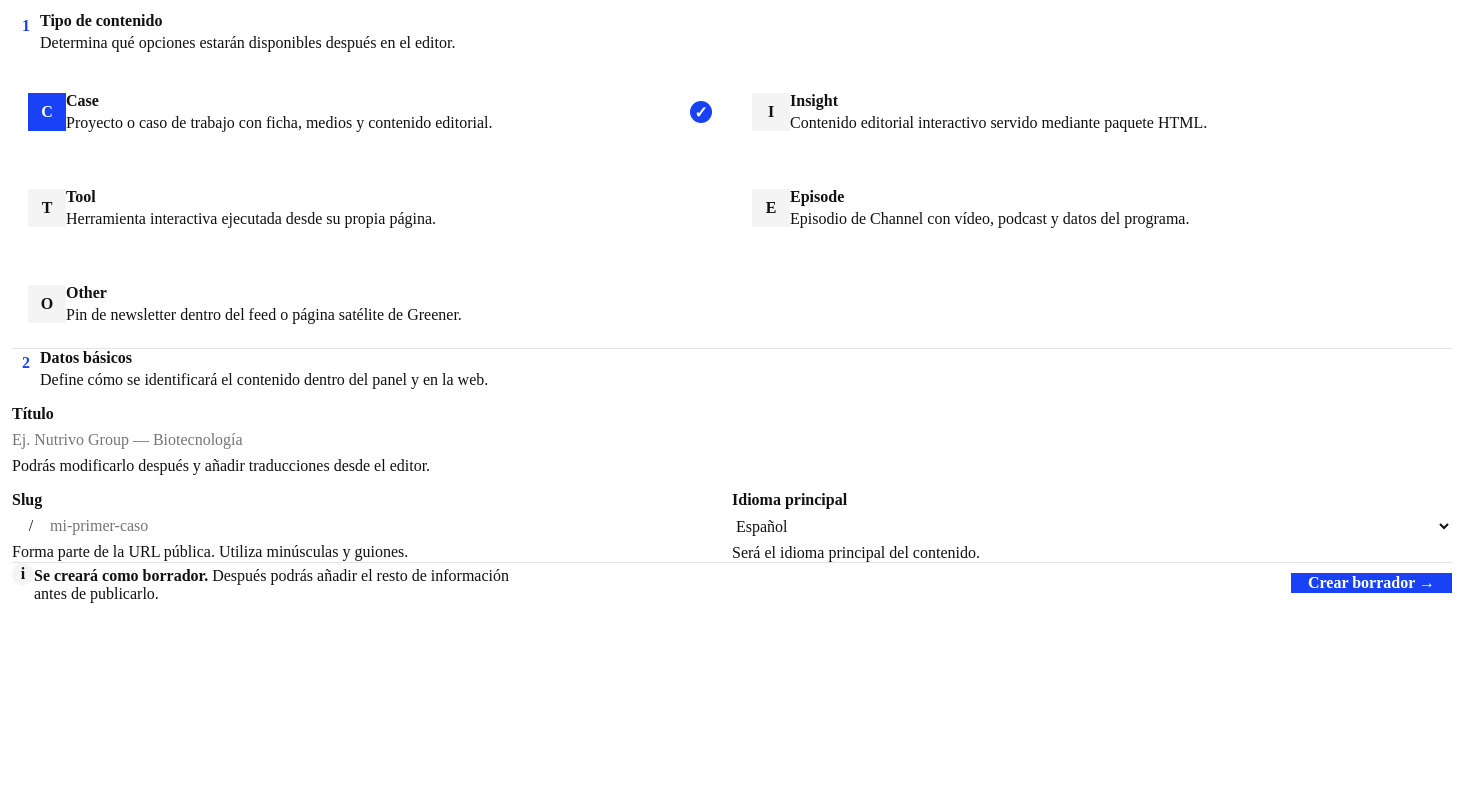
Test: alta de contenido — Other (plan de other, §7.1) › al volver a otro tipo desaparece la sección
This screenshot has width=1464, height=799.
Click the radio button that starts with "Other": click(370, 304) [12,260,728,348]
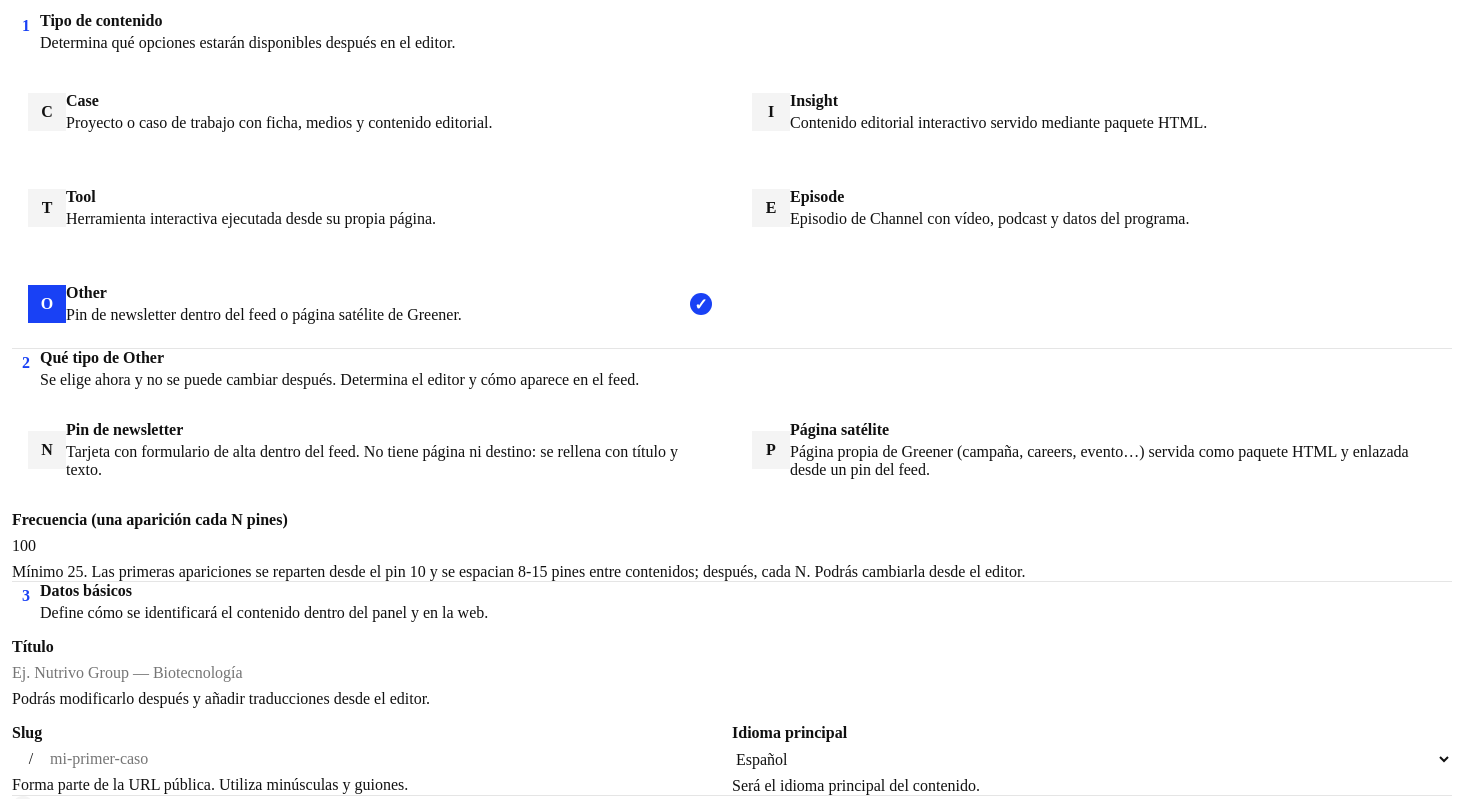
Click the radio button that starts with "Case": click(370, 112) [12,68,728,156]
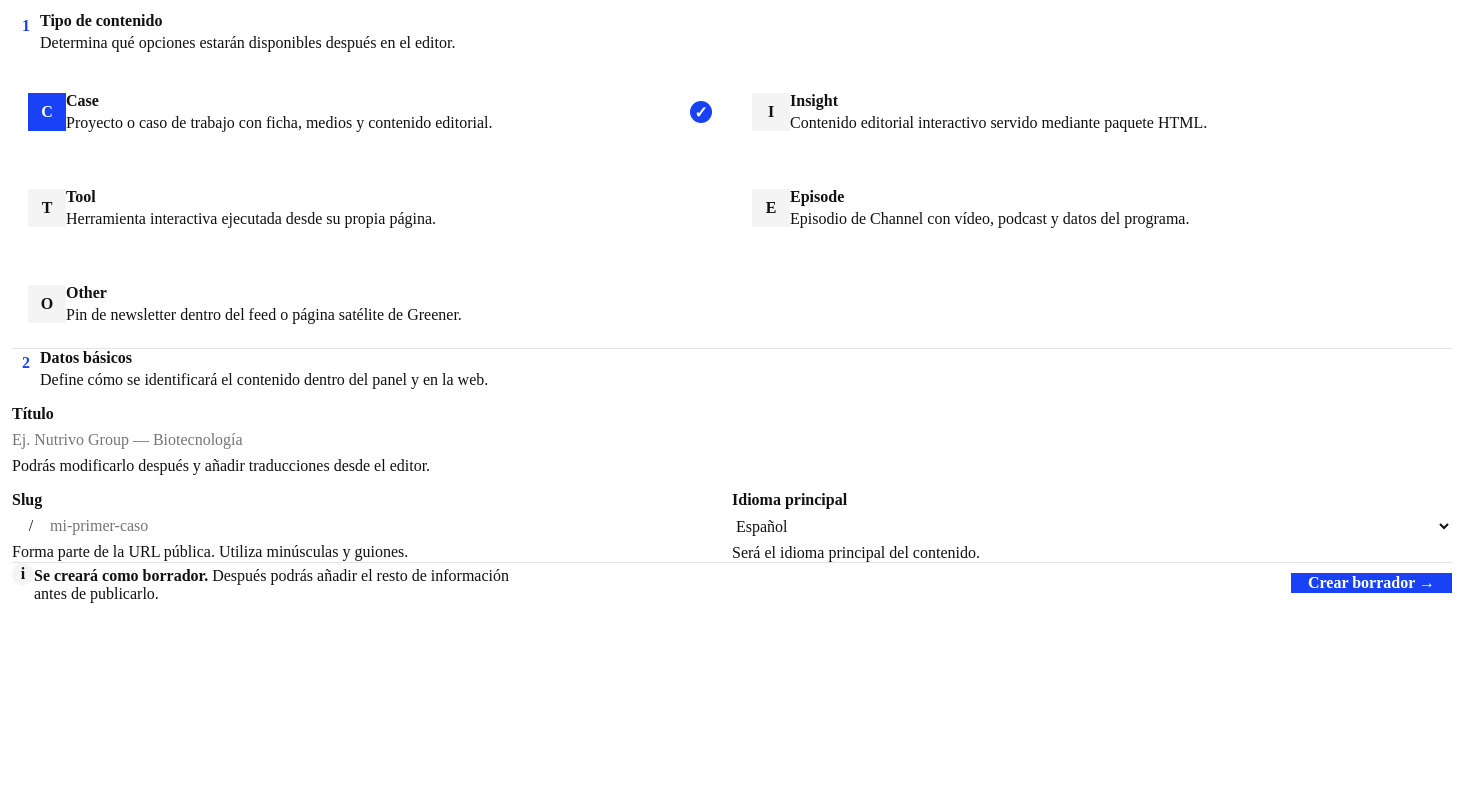
Expected: the label labelled "Frecuencia" is gone
